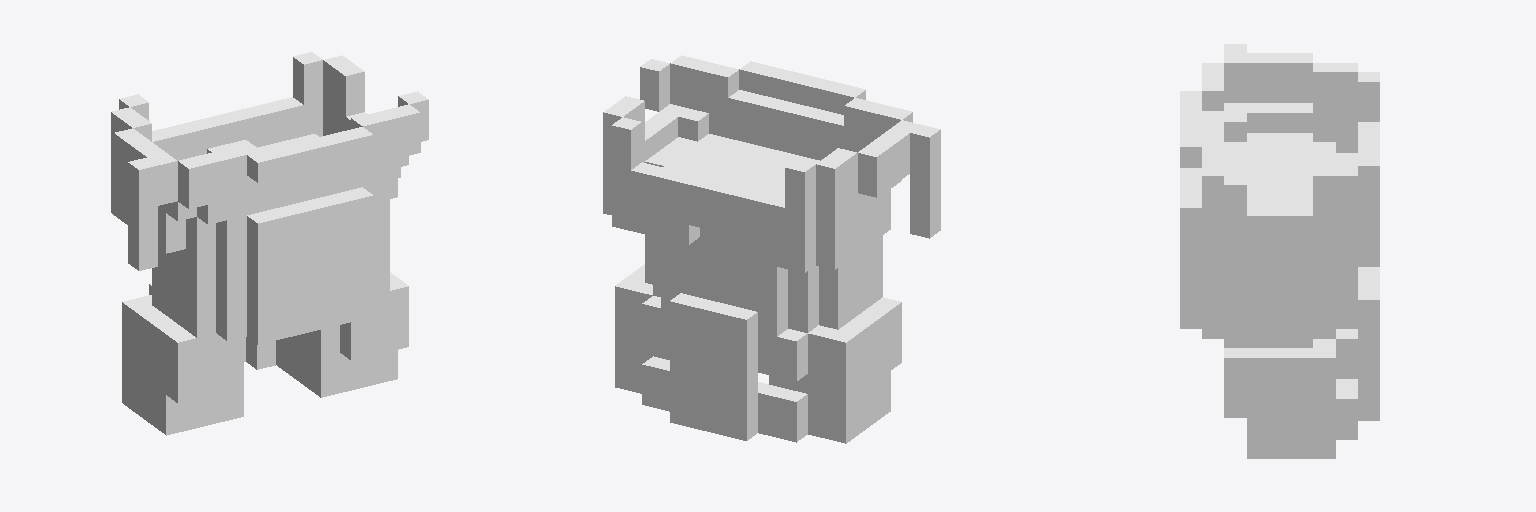
File: anubis_vox-1-body.obj
3 renders of one model, left to right at view 1: azimuth 30°, elevation 25°; view 2: azimuth 150°, elevation 25°; view 3: azimuth 270°, elevation 25°, orthographic.
Parts seen in each view (by area): view 1: body; view 2: body; view 3: body.
Part boxes in pixels (left/top/right/bottom): body: left=111, top=52, right=428, bottom=435; body: left=603, top=55, right=940, bottom=443; body: left=1180, top=44, right=1379, bottom=458.
Bounding box in the file's own units: 1.5 × 1.4 × 0.9.